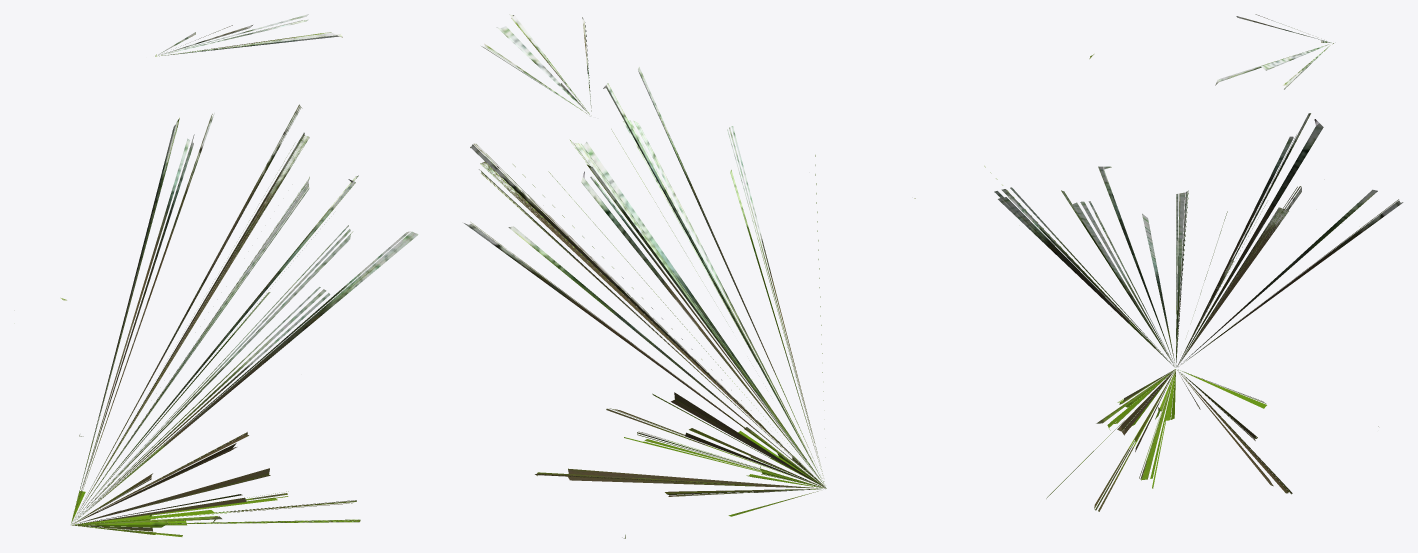
The model's file is nature_oak_large_02.glb.
3 views of the same model, side by side, from view 1: azimuth 30°, elevation 25°; view 2: azimuth 150°, elevation 25°; view 3: azimuth 270°, elevation 25° (orthographic). The views are drawn at different scales.
Visible parts, largest first — view 1: geometry_0; view 2: geometry_0; view 3: geometry_0.
Part boxes in pixels (left/top/right/bottom): geometry_0: left=61, top=14, right=418, bottom=536; geometry_0: left=464, top=14, right=915, bottom=538; geometry_0: left=984, top=14, right=1403, bottom=511.
Size of the model in its own units: 0.835 by 0.9132 by 0.7989.
Materials: 1 (1 with a texture image).
